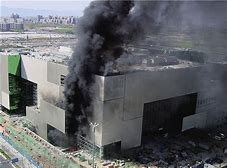smoke: (65, 1, 136, 128)
